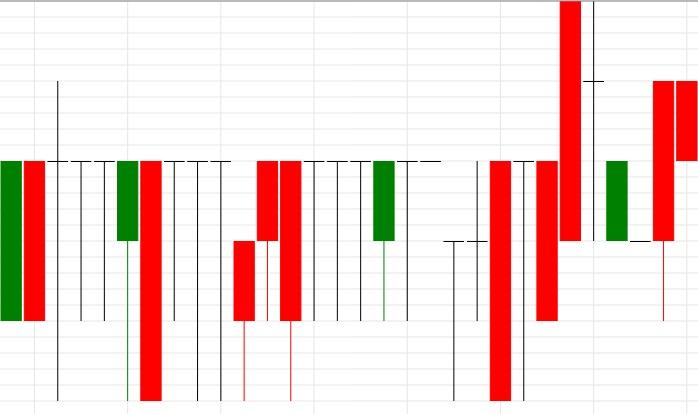morning_star_rise: (559, 0, 675, 321)
